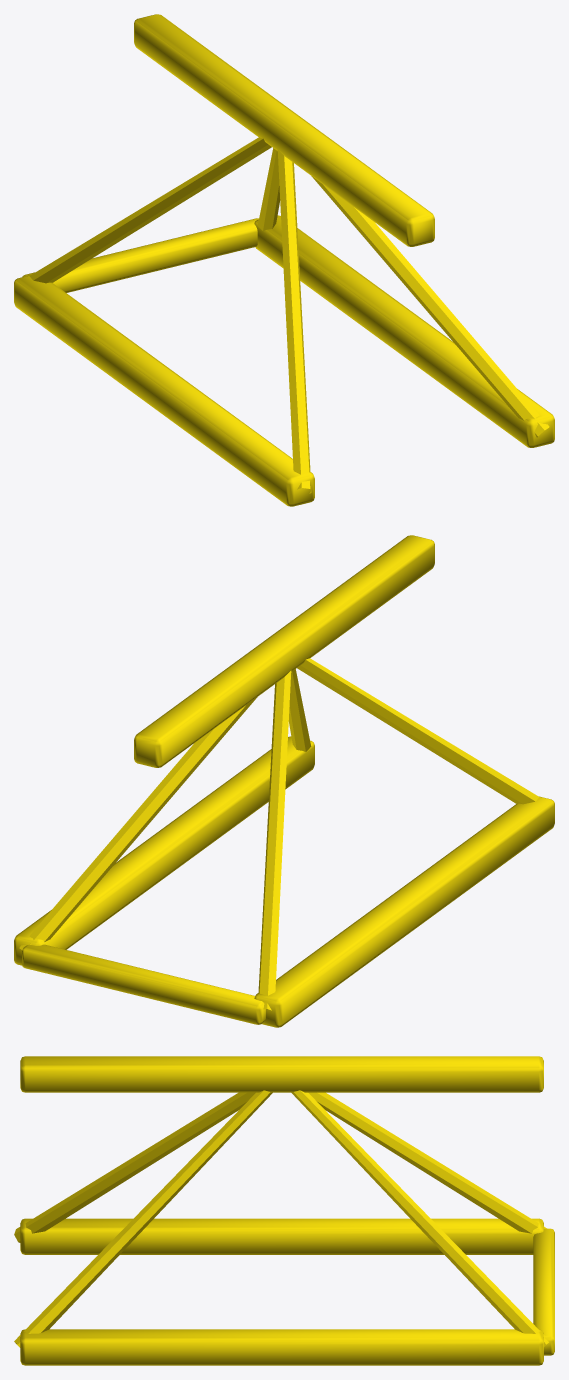
The model's file is crane_jib.glb.
3 renders of one model, top to bottom at view 1: azimuth 30°, elevation 25°; view 2: azimuth 150°, elevation 25°; view 3: azimuth 270°, elevation 25°, orthographic. The views are drawn at different scales.
Visible parts, largest first — view 1: Body; view 2: Body; view 3: Body.
Part boxes in pixels (x1,y1,x2,y2): Body: [14, 14, 554, 506]; Body: [14, 535, 554, 1027]; Body: [14, 1056, 554, 1365].
Size of the model in its own units: 0.67 by 0.62 by 1.24.
